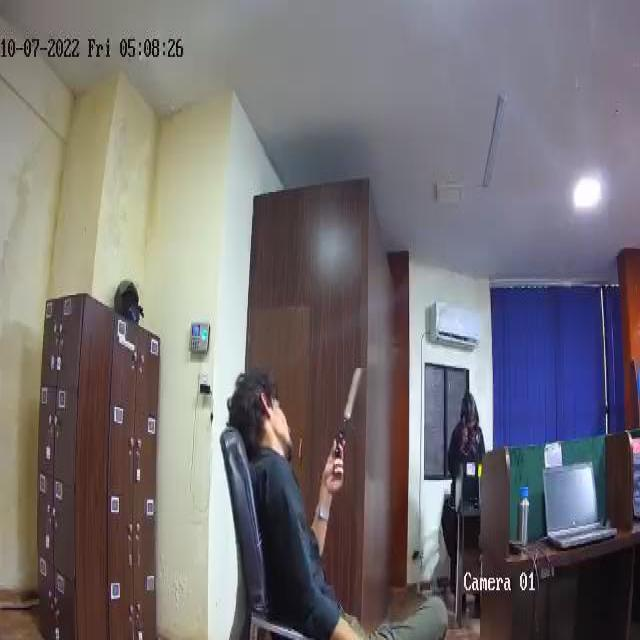Knife: (330, 362, 361, 477)
